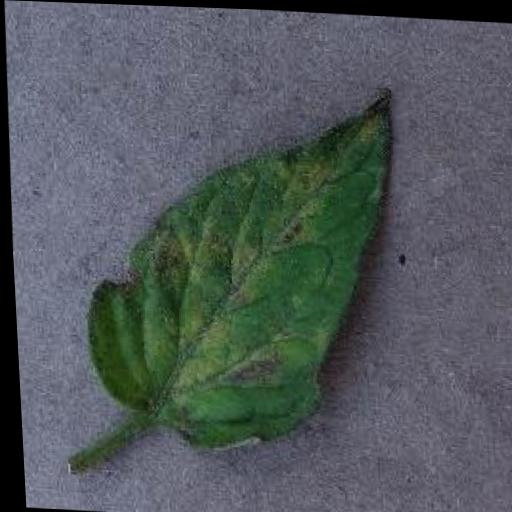Leaf Mold: (72, 73, 406, 459)
